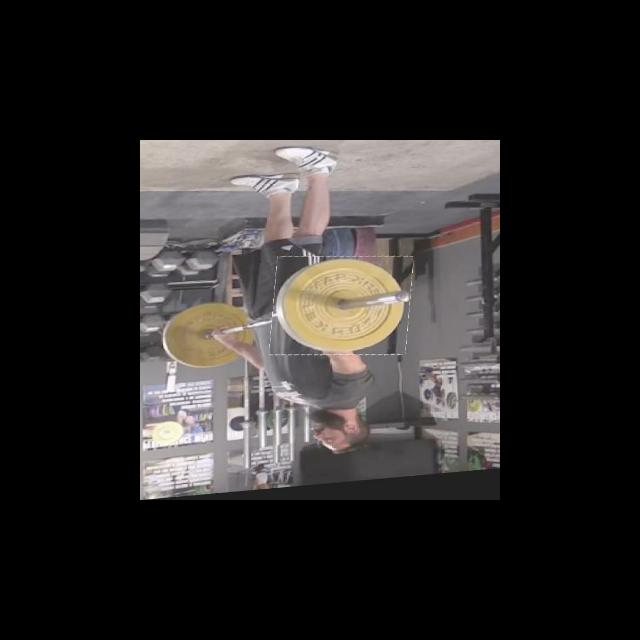barbell: (271, 253, 412, 366)
